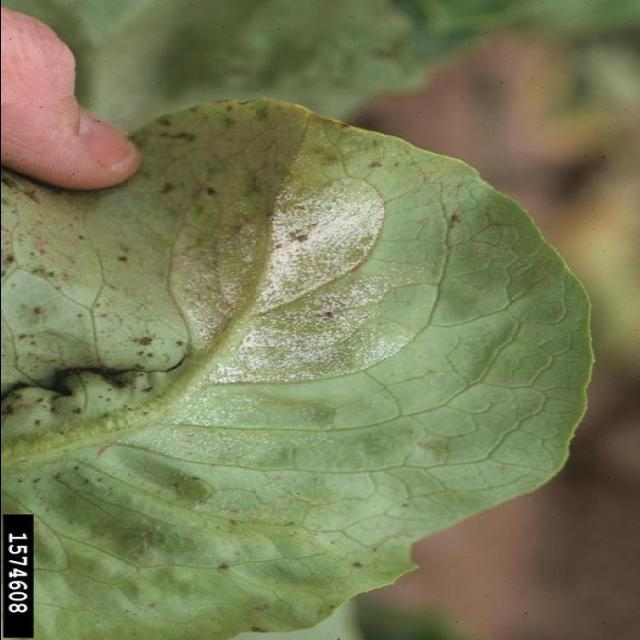Bad: (157, 172, 409, 407)
